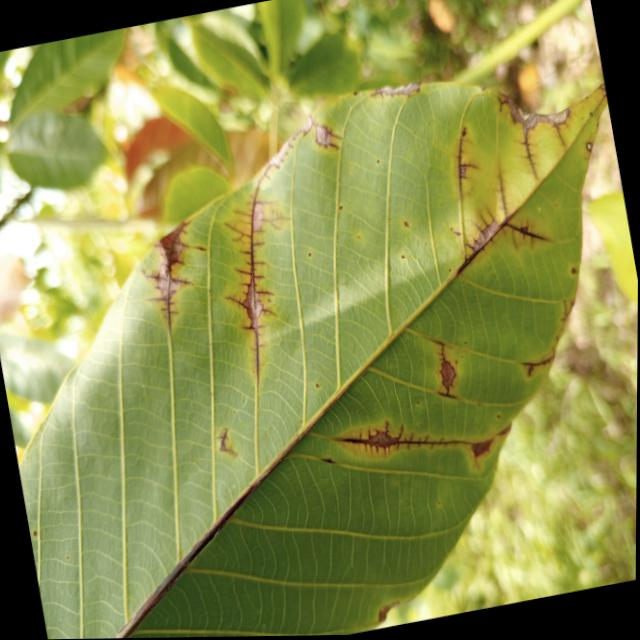Colletotrichum: (585, 144, 592, 153), (307, 253, 312, 257)
Corynespora: (205, 176, 316, 379), (133, 219, 219, 334), (341, 405, 471, 470), (448, 213, 522, 277), (429, 339, 460, 404), (449, 138, 482, 195), (503, 216, 548, 255), (514, 130, 543, 185), (308, 110, 343, 154), (489, 171, 511, 219), (210, 425, 237, 463), (520, 354, 557, 379), (551, 119, 572, 155), (495, 92, 510, 112)
Leaf-Blight: (374, 81, 420, 101), (265, 142, 292, 166), (469, 439, 496, 462), (594, 75, 607, 101), (495, 423, 514, 440), (295, 118, 313, 135)
